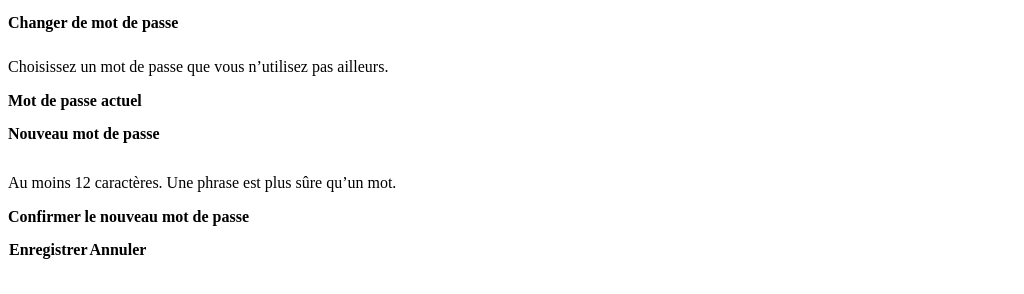
Test: ChangePasswordPage › surfaces the server’s own verdict on the new password
Type "actuel" into the password field labelled "Mot de passe actuel" at x=512, y=118, box x1=8 y1=110 x2=1016 y2=125
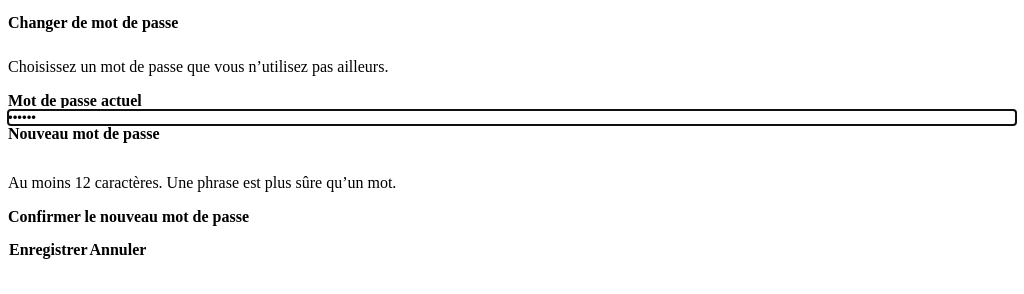
Type "motdepasse123" into the password field labelled "Nouveau mot de passe" at x=512, y=151, box x1=8 y1=143 x2=1016 y2=158
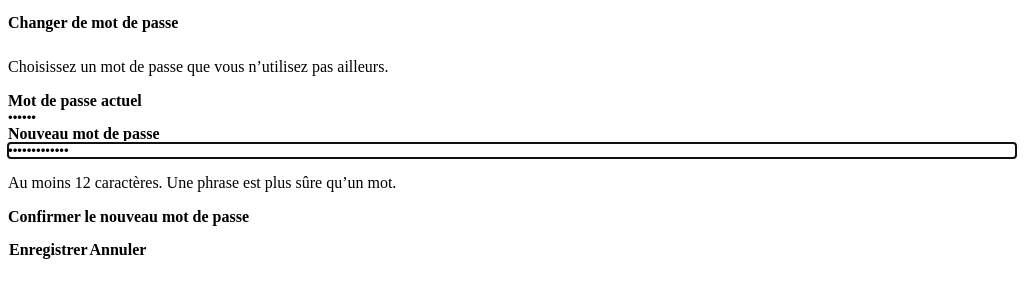
Type "motdepasse123" into the password field labelled "Confirmer le nouveau mot de passe" at x=512, y=234, box x1=8 y1=226 x2=1016 y2=241
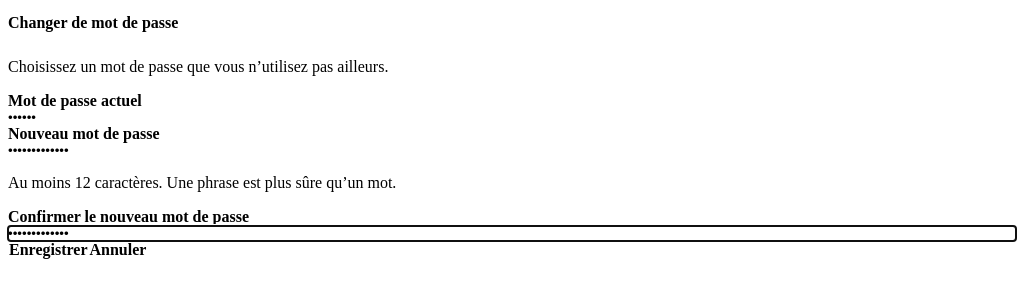
Click the button "Enregistrer" at x=48, y=250, box x1=8 y1=241 x2=88 y2=259
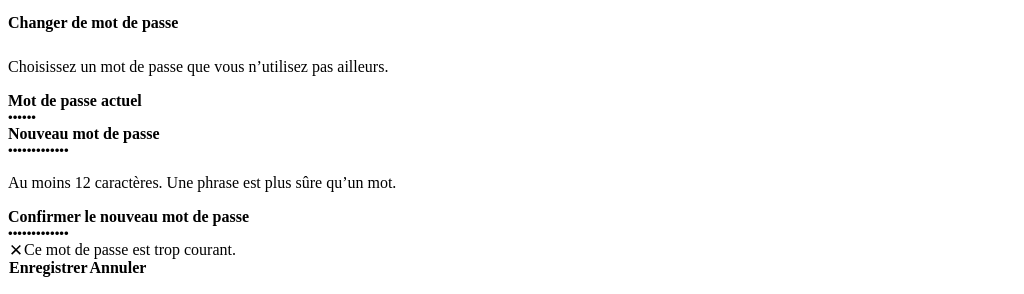
Now the message reads "Ce mot de passe est trop courant.", box x1=24 y1=241 x2=236 y2=258
